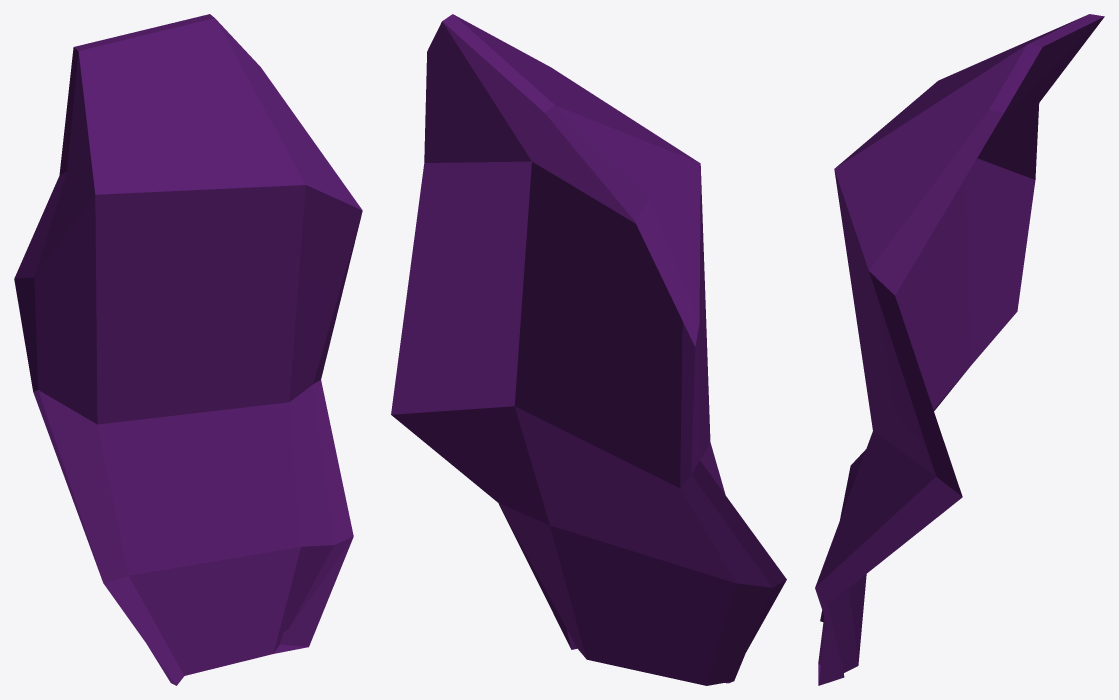
File: Right_Standard.fbx
The picture shows the model from 3 angles, left to right: view 1: azimuth 30°, elevation 25°; view 2: azimuth 150°, elevation 25°; view 3: azimuth 270°, elevation 25°; orthographic projection. The views are drawn at different scales.
Parts seen in each view (by area): view 1: Stamdard.002; view 2: Stamdard.002; view 3: Stamdard.002.
Part boxes in pixels (bbox=[...]): Stamdard.002: bbox=[14, 14, 362, 685]; Stamdard.002: bbox=[391, 14, 786, 685]; Stamdard.002: bbox=[815, 14, 1104, 685].
Bounding box in the file's own units: 226 × 442 × 179.
